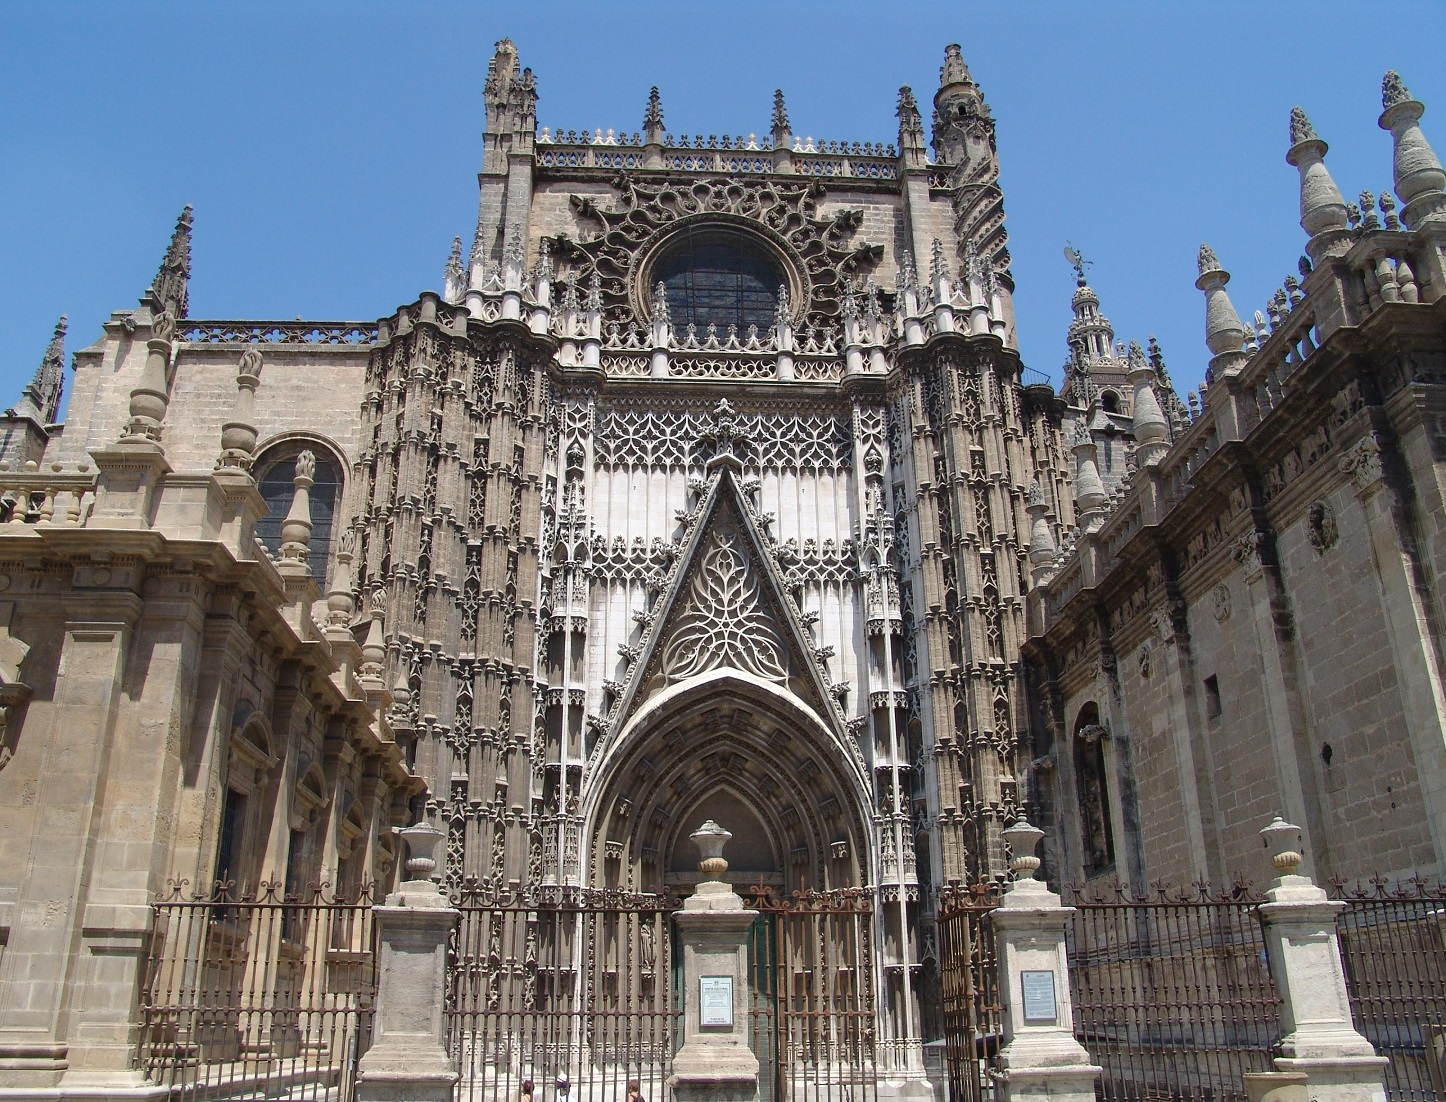arco-apuntado: (583, 668, 874, 884)
arco-medio-punto: (245, 429, 353, 493)
pinaculo-gotico: (151, 194, 201, 314), (21, 304, 74, 409), (762, 82, 799, 139), (634, 79, 668, 139), (889, 76, 924, 134), (531, 232, 556, 285), (960, 235, 984, 287), (441, 233, 468, 280), (649, 277, 673, 330), (769, 279, 794, 326), (467, 216, 490, 267), (897, 245, 920, 293), (927, 234, 950, 280), (839, 274, 861, 323), (583, 267, 605, 315), (864, 275, 883, 326), (505, 218, 524, 265), (559, 269, 580, 313), (983, 250, 1000, 296)
